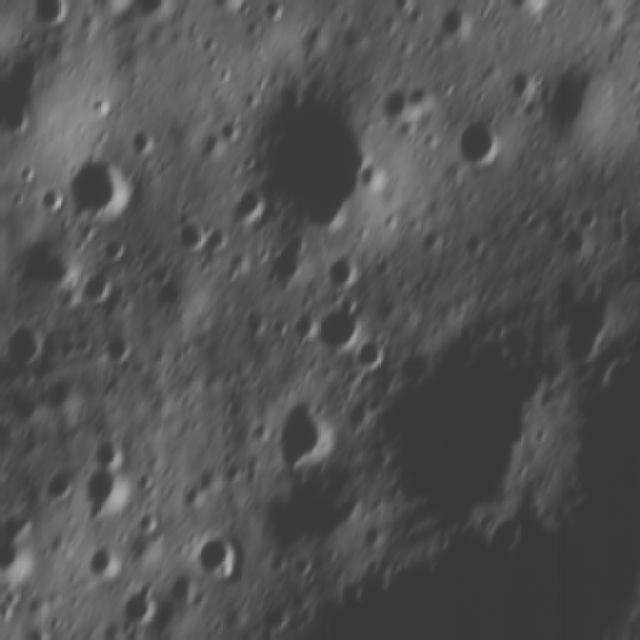crater: (370, 326, 547, 534), (242, 78, 384, 234), (552, 276, 616, 376), (268, 394, 342, 475), (534, 62, 600, 140), (58, 158, 134, 224), (448, 114, 501, 175), (308, 299, 363, 356), (262, 228, 308, 290), (189, 530, 240, 584), (2, 320, 50, 377), (12, 2, 74, 43), (119, 580, 167, 631), (372, 80, 416, 131), (65, 270, 118, 312), (36, 374, 81, 418), (165, 213, 210, 256), (500, 62, 542, 106), (224, 188, 265, 232), (25, 178, 69, 218), (108, 0, 175, 26), (348, 332, 386, 377), (84, 468, 125, 508), (36, 469, 78, 508), (84, 537, 121, 581), (320, 254, 362, 292), (125, 120, 162, 163), (562, 196, 608, 230), (554, 222, 594, 260), (165, 566, 201, 608), (433, 7, 470, 45), (98, 333, 134, 372), (93, 233, 129, 270), (249, 0, 288, 31), (89, 432, 122, 468), (416, 220, 447, 257), (458, 227, 493, 259), (129, 511, 165, 542), (236, 306, 266, 343), (139, 257, 170, 292), (210, 115, 239, 146), (266, 308, 288, 346)
